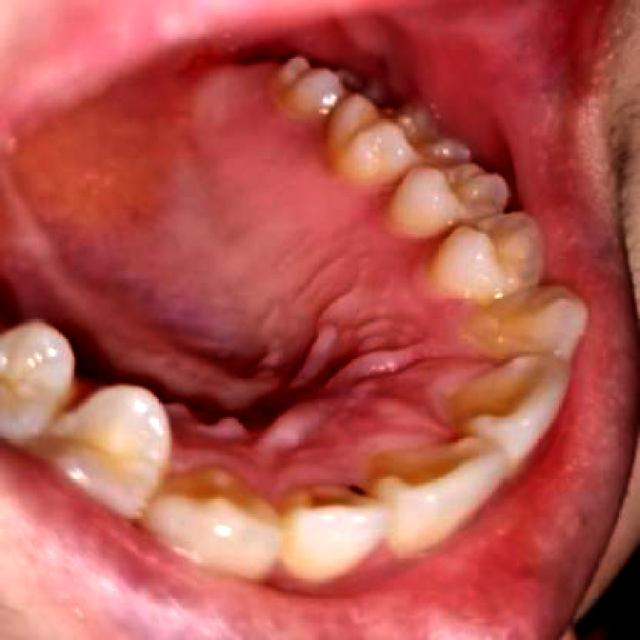Plaque: (333, 478, 383, 510)
